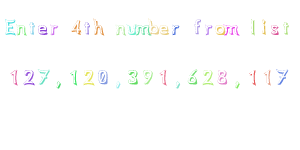,: (51, 78, 65, 93), (171, 78, 185, 93), (110, 78, 123, 92), (232, 79, 244, 93)
0: (96, 67, 111, 88)
1: (244, 66, 261, 88), (156, 67, 171, 89), (66, 66, 81, 87), (6, 66, 21, 86), (261, 66, 273, 88)
2: (200, 66, 215, 89), (21, 67, 37, 88), (82, 67, 96, 88)
3: (125, 66, 140, 88)
4: (69, 16, 82, 35)
6: (185, 66, 200, 87)
7: (274, 66, 290, 89), (37, 66, 52, 88)
8: (216, 67, 230, 87)
9: (141, 66, 155, 89)
E: (1, 13, 16, 36)
b: (147, 12, 159, 39)
e: (36, 22, 49, 38), (158, 22, 170, 39)
f: (189, 14, 203, 38)
h: (92, 12, 108, 38)
i: (258, 16, 269, 38)
l: (246, 13, 258, 38)
m: (221, 22, 240, 37), (134, 21, 150, 37)
n: (113, 20, 126, 38), (15, 23, 28, 38)
o: (214, 21, 226, 38)
r: (169, 18, 183, 40), (48, 21, 61, 38), (203, 21, 213, 37)
s: (269, 21, 281, 39)
t: (279, 18, 293, 36), (27, 17, 36, 37), (83, 19, 92, 38)
u: (126, 20, 138, 39)
